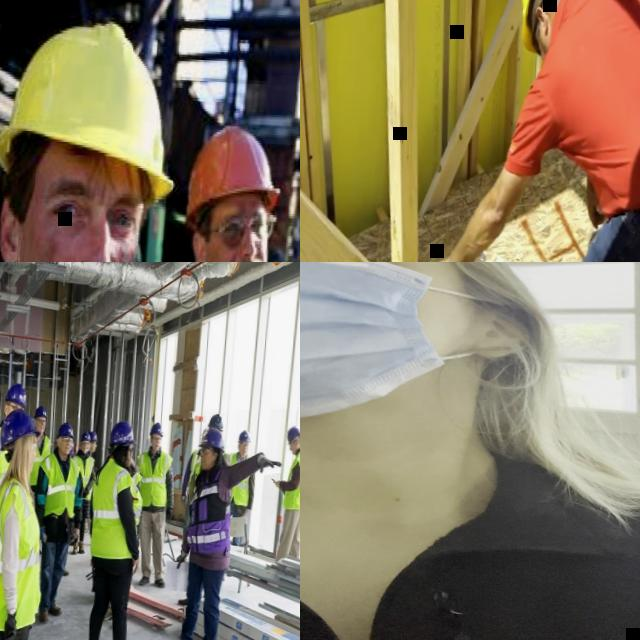Hardhat: (0, 12, 189, 185), (184, 121, 286, 233), (516, 0, 576, 55), (0, 407, 42, 454), (109, 419, 140, 446), (5, 382, 30, 409), (199, 428, 227, 452), (57, 422, 77, 441), (209, 413, 225, 432), (286, 426, 300, 445), (150, 422, 166, 438), (33, 405, 49, 420), (239, 429, 253, 444), (89, 430, 100, 442), (81, 430, 92, 442), (202, 426, 210, 436), (72, 440, 76, 451)
Mask: (300, 262, 510, 438)
NO-Mask: (201, 457, 214, 470), (61, 445, 72, 455), (31, 456, 37, 474), (127, 454, 133, 468), (152, 443, 161, 452), (240, 449, 248, 457), (37, 424, 45, 432), (292, 444, 297, 456), (82, 446, 89, 452), (91, 447, 96, 452)
NO-Safety Vest: (300, 441, 640, 640), (535, 0, 640, 217)
Person: (300, 262, 640, 640), (424, 0, 640, 262), (0, 4, 186, 262), (167, 426, 284, 640), (140, 121, 300, 262), (78, 417, 150, 640), (0, 404, 54, 640), (28, 419, 89, 626), (131, 421, 181, 588), (0, 381, 29, 640), (186, 410, 236, 506), (268, 425, 300, 565), (224, 428, 260, 547), (66, 430, 99, 557), (179, 424, 209, 543), (28, 404, 57, 502), (78, 430, 100, 545)
Safety Vest: (0, 474, 50, 631), (89, 458, 146, 560), (186, 462, 238, 555), (37, 450, 83, 518), (136, 448, 175, 508), (195, 451, 233, 495), (227, 451, 254, 504), (0, 423, 16, 507), (30, 434, 53, 486), (71, 454, 96, 501), (282, 449, 300, 511), (186, 448, 201, 505), (89, 456, 97, 490), (132, 470, 144, 486)
